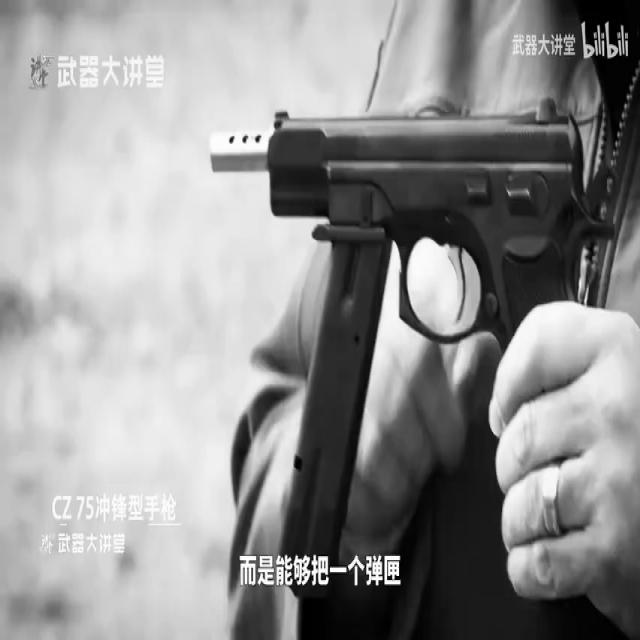Sub-machine-gun: (207, 31, 633, 640)
